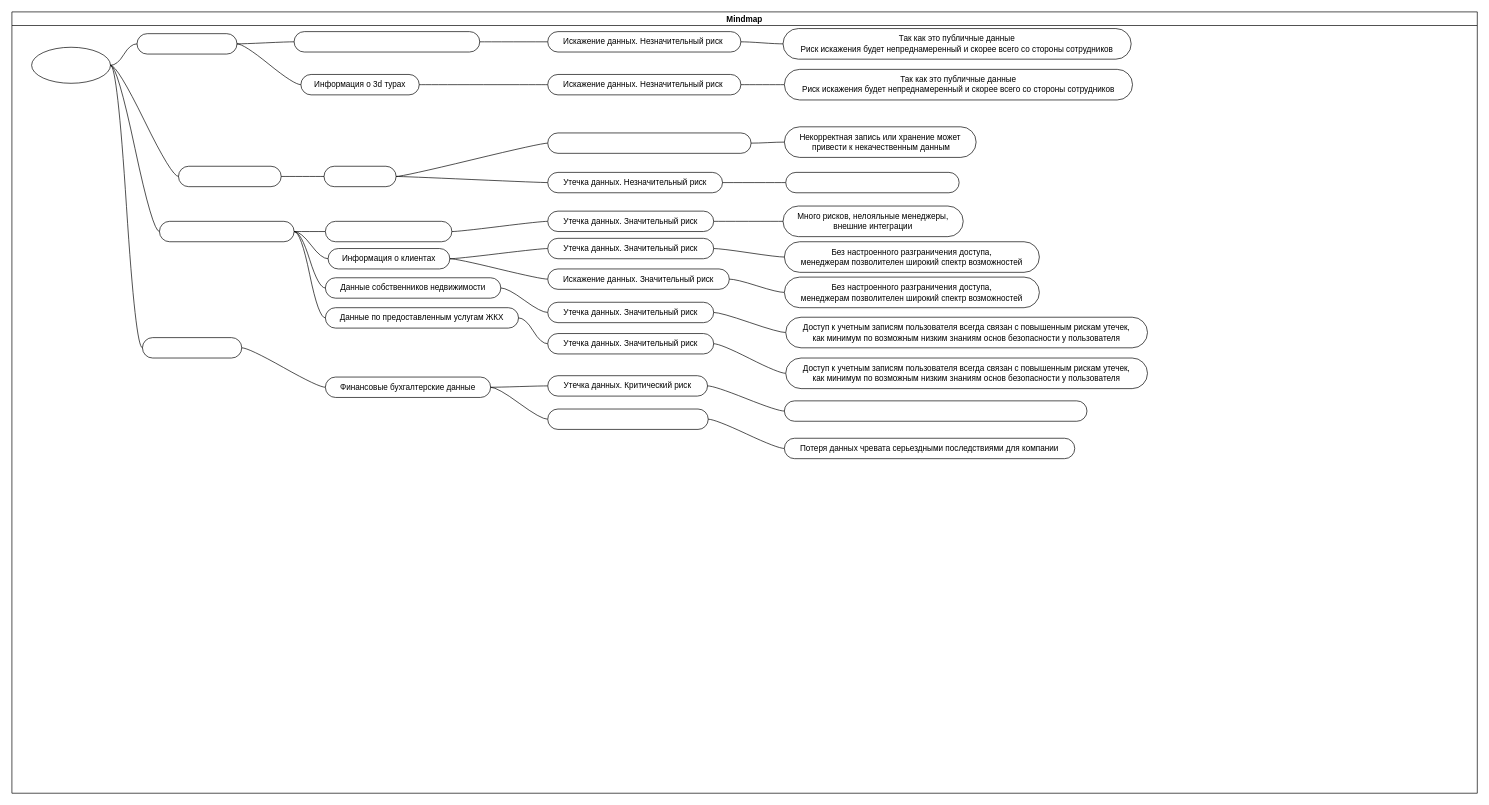
Image size: 1489x805. Some labels were removed from this diagram. The shapes that lost their labels are listed below. From the top down, each one's box as (x1, y1, x2, y2) in pixels, then its label:
(136, 33, 237, 54): публичные данные
(293, 31, 480, 52): Информация об объектах недвижимости
(31, 47, 111, 83): Безопасность данных
(547, 132, 751, 153): Некачественные данные. Значительный риск
(178, 166, 281, 187): внутренние данные
(323, 166, 396, 187): DWS даные
(785, 172, 959, 193): Данные хранятся в закрытом контуре
(159, 221, 294, 242): конфиденциальные данные
(325, 221, 452, 242): Сделки по недвижимости
(142, 337, 242, 358): секретные данные
(547, 408, 708, 429): Потеря данных. Критический риск
(784, 400, 1087, 421): Финансовые данные всегда связанны с повышенным риском их утечек
